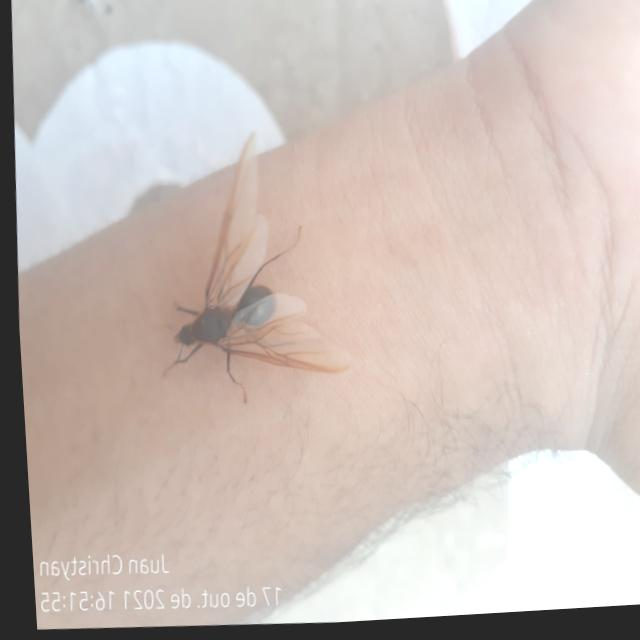Alive-Male-Alate: (144, 126, 357, 414)
